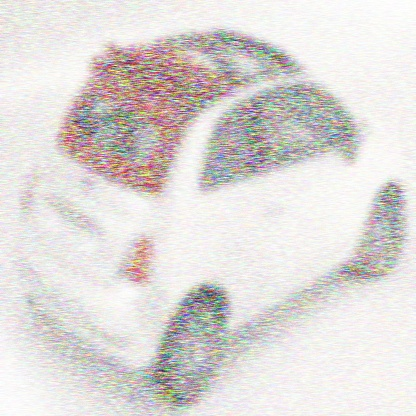Vehicle: (12, 31, 406, 412)
